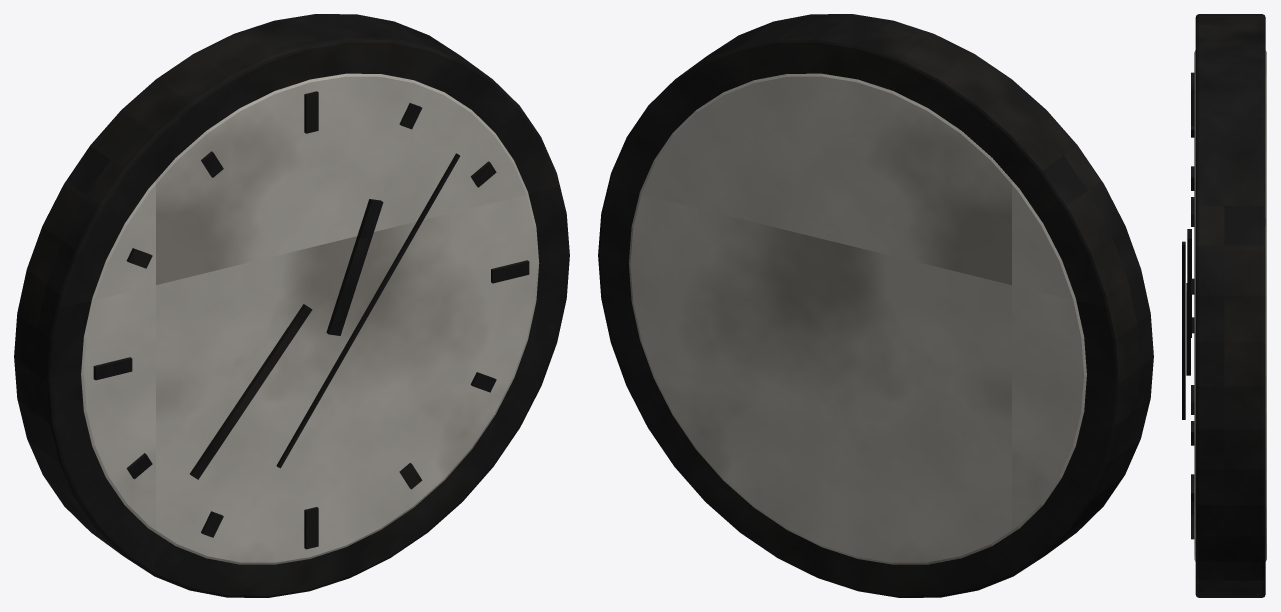
Rendered from F36_wall_clock.glb.
The picture shows the model from 3 angles, left to right: view 1: azimuth 30°, elevation 25°; view 2: azimuth 150°, elevation 25°; view 3: azimuth 270°, elevation 25°; orthographic projection. The views are drawn at different scales.
Visible parts, largest first — view 1: F36_wall_clock; view 2: F36_wall_clock; view 3: F36_wall_clock.
Boxes of the visible parts, x1=… form: F36_wall_clock: x1=14, y1=14, x2=569, y2=597; F36_wall_clock: x1=598, y1=14, x2=1153, y2=597; F36_wall_clock: x1=1182, y1=14, x2=1266, y2=597.
Bounding box in the file's own units: 0.5 × 0.5 × 0.0725.
Materials: 3 (3 with a texture image).
